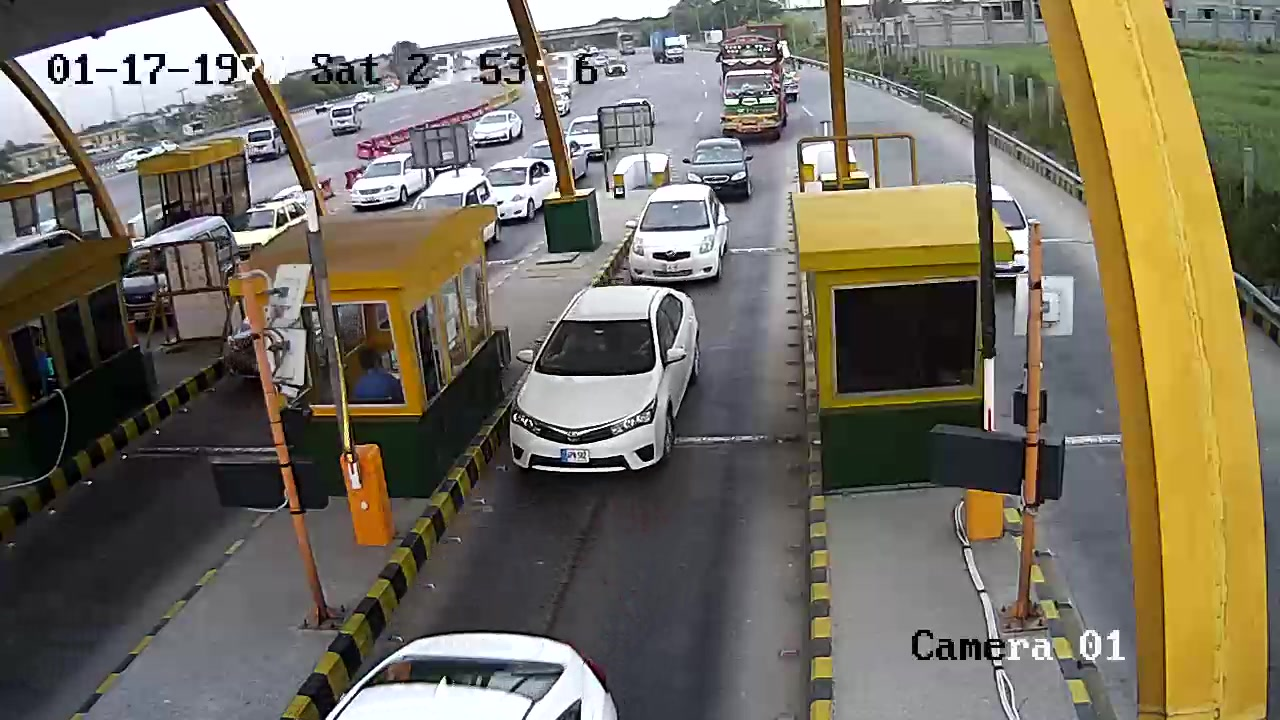F1: (501, 279, 699, 478)
